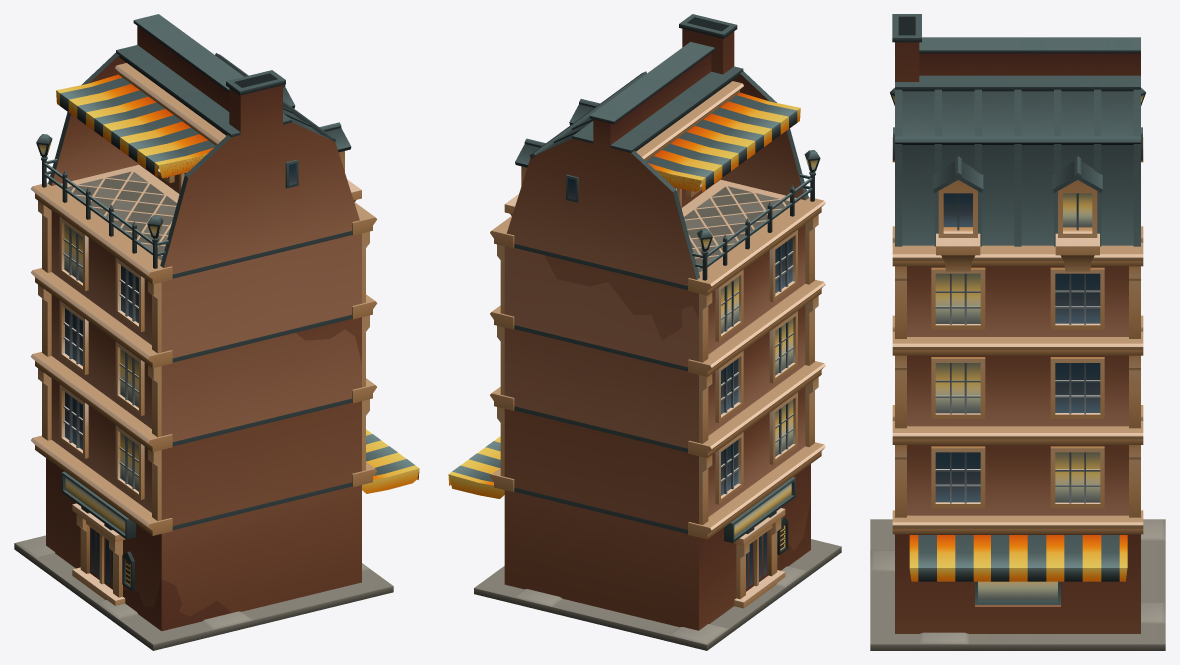
File: Building_2B.fbx
3 renders of one model, left to right at view 1: azimuth 30°, elevation 25°; view 2: azimuth 150°, elevation 25°; view 3: azimuth 270°, elevation 25°, orthographic. The views are drawn at different scales.
Parts seen in each view (by area): view 1: Building_2B, Canopy_2B_Top, Canopy_2B_Bottom, Window_Lights_2B; view 2: Building_2B, Canopy_2B_Top, Canopy_2B_Bottom, Window_Lights_2B; view 3: Building_2B, Canopy_2B_Bottom, Window_Lights_2B.
Boxes of the visible parts, left/top/right/bottom form: Building_2B: left=14, top=14, right=393, bottom=650; Canopy_2B_Top: left=56, top=74, right=215, bottom=178; Canopy_2B_Bottom: left=362, top=429, right=419, bottom=493; Window_Lights_2B: left=64, top=166, right=187, bottom=491; Building_2B: left=474, top=14, right=841, bottom=650; Canopy_2B_Top: left=646, top=92, right=800, bottom=191; Canopy_2B_Bottom: left=448, top=436, right=504, bottom=498; Window_Lights_2B: left=676, top=181, right=793, bottom=456; Building_2B: left=870, top=14, right=1165, bottom=650; Canopy_2B_Bottom: left=909, top=535, right=1127, bottom=581; Window_Lights_2B: left=935, top=193, right=1100, bottom=600.
Size of the model in its own units: 1422 by 2520 by 1200.
1 material, 1 textured.
